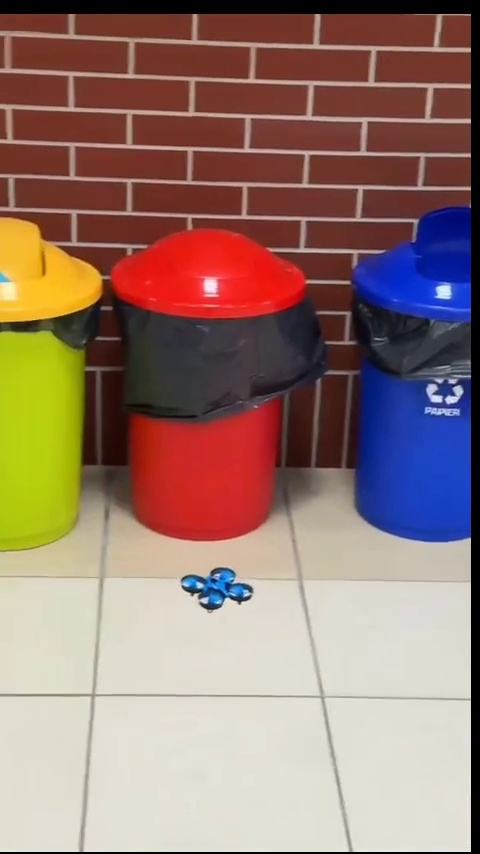drone: (180, 565, 251, 609)
